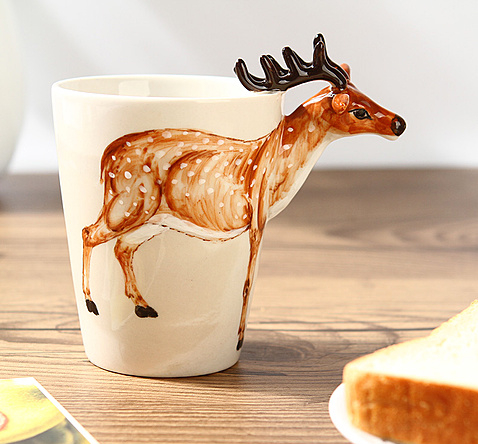cup: (49, 51, 409, 379)
